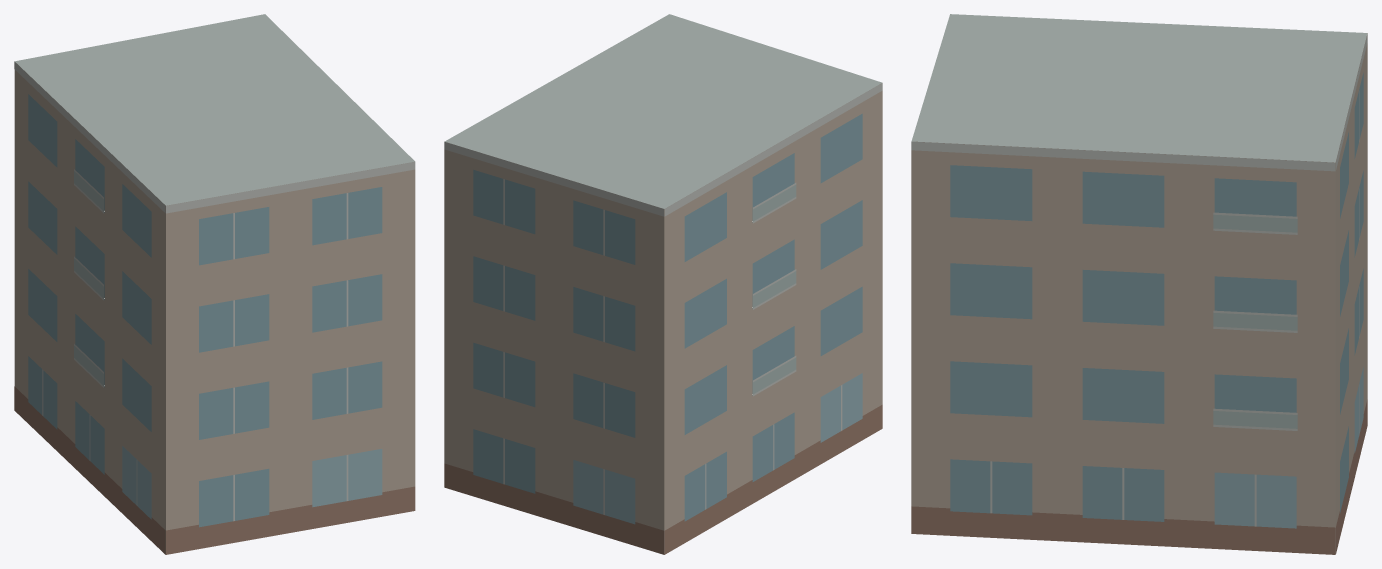
File: survey-upis-32710647.glb
3 views of the same model, side by side, from view 1: azimuth 30°, elevation 25°; view 2: azimuth 150°, elevation 25°; view 3: azimuth 270°, elevation 25° (orthographic). The views are drawn at different scales.
Parts seen in each view (by area): view 1: survey-upis-32710647.tmp; view 2: survey-upis-32710647.tmp; view 3: survey-upis-32710647.tmp.
Part boxes in pixels (x1,y1,x2,y2): survey-upis-32710647.tmp: (14,14,415,554); survey-upis-32710647.tmp: (444,14,882,554); survey-upis-32710647.tmp: (911,14,1367,554).
Bounding box in the file's own units: 8.78 × 10.8 × 11.39.
